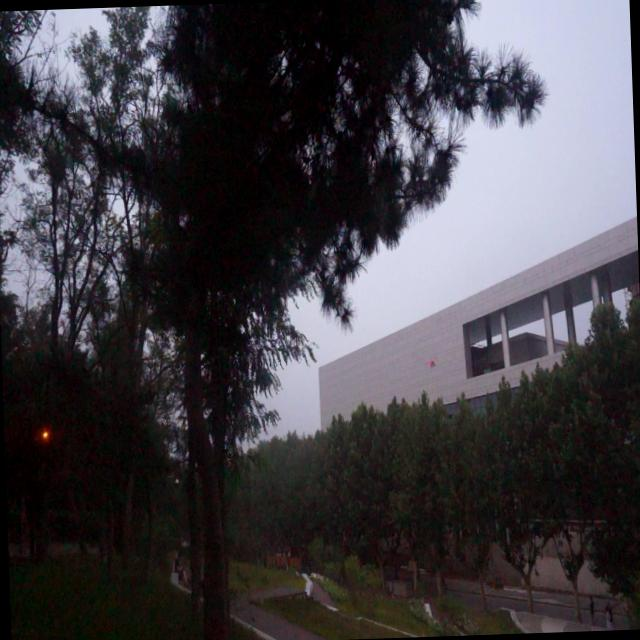drone: (426, 355, 438, 371)
